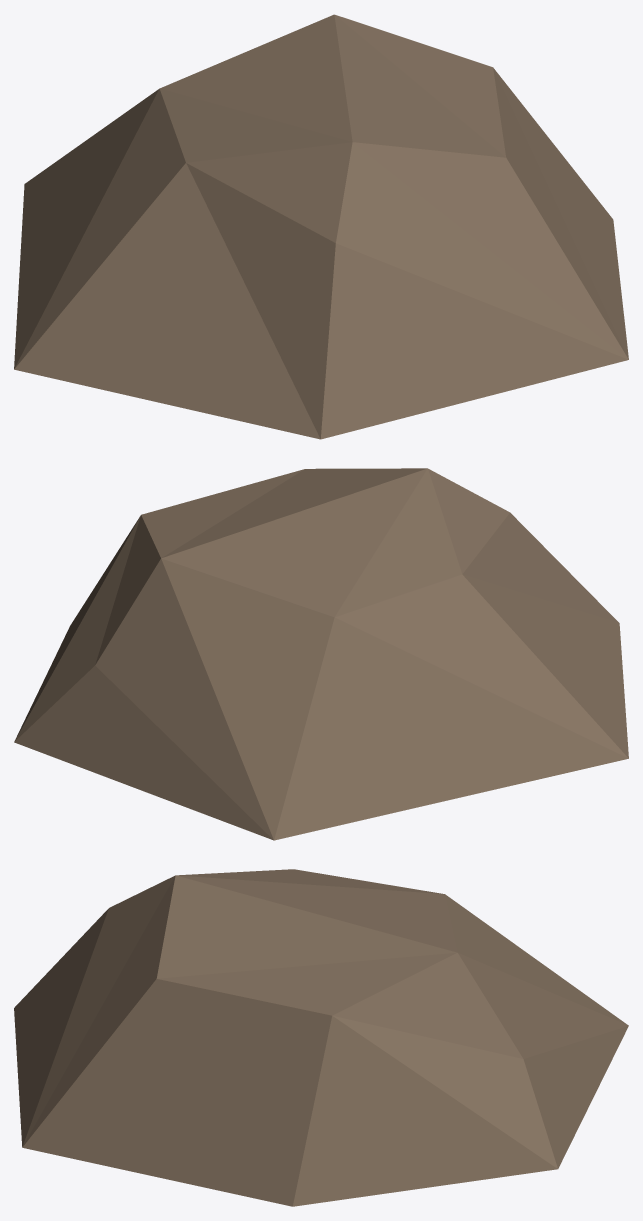
The model's file is SM_Generic_Small_Rocks_05.glb.
The picture shows the model from 3 angles, top to bottom: view 1: azimuth 30°, elevation 25°; view 2: azimuth 150°, elevation 25°; view 3: azimuth 270°, elevation 25°; orthographic projection. The views are drawn at different scales.
Parts seen in each view (by area): view 1: SM_Generic_Small_Rocks_05; view 2: SM_Generic_Small_Rocks_05; view 3: SM_Generic_Small_Rocks_05.
Boxes of the visible parts, x1=… form: SM_Generic_Small_Rocks_05: x1=14, y1=14, x2=628, y2=439; SM_Generic_Small_Rocks_05: x1=14, y1=468, x2=628, y2=840; SM_Generic_Small_Rocks_05: x1=14, y1=869, x2=628, y2=1206.
Bounding box in the file's own units: 0.2614 × 0.0843 × 0.2521.
Materials: 1 (1 with a texture image).
